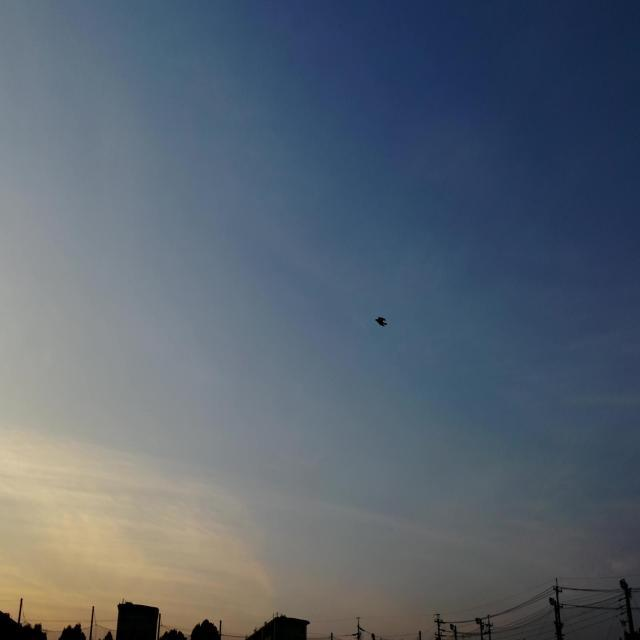Birds: (372, 308, 387, 334)
